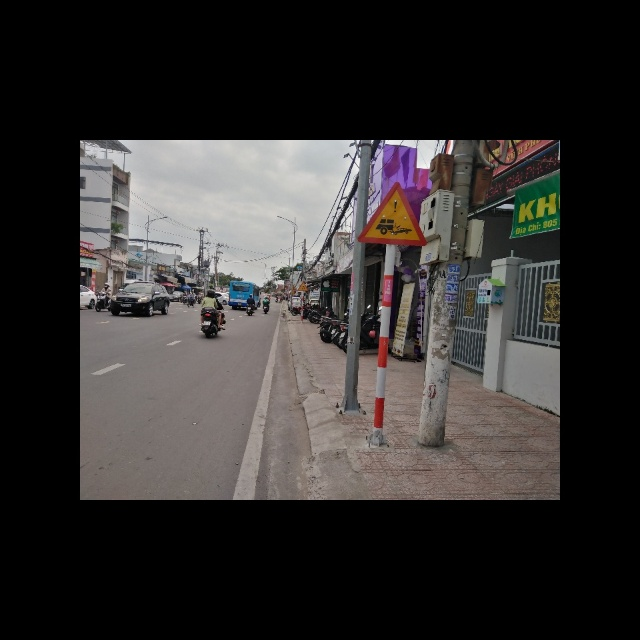Đoạn đường hay xảy ra tai nạn: (359, 180, 428, 246)
